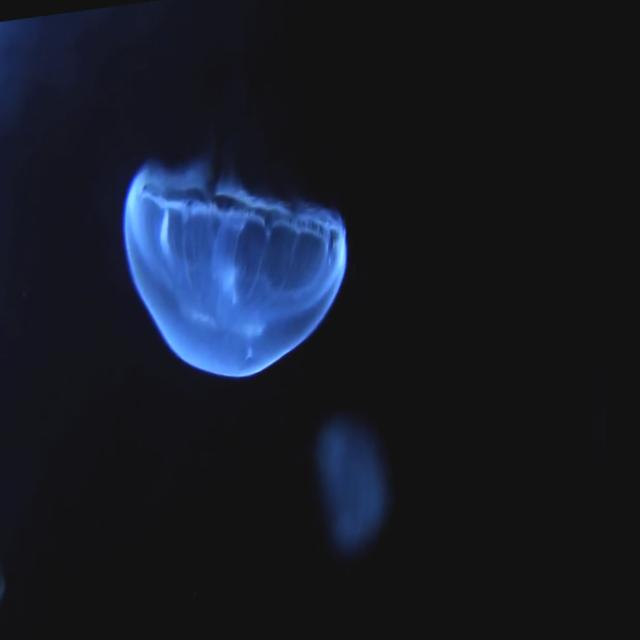Moon-jellyfish: (121, 150, 355, 387)
